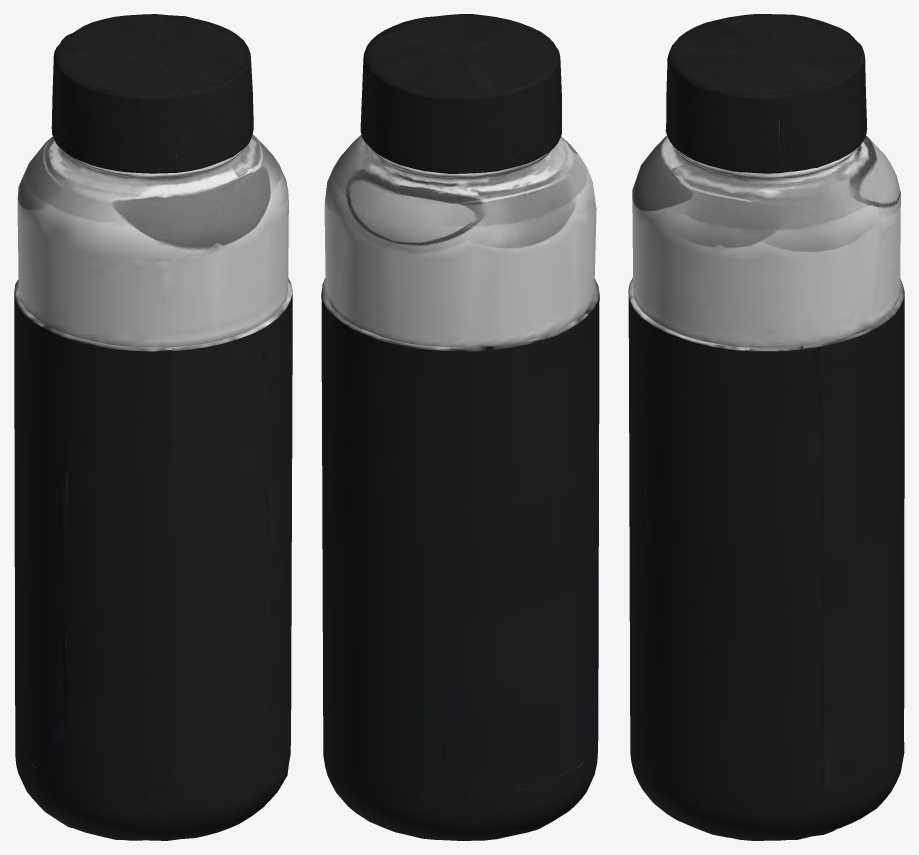
File: DEMO-P023.glb
The picture shows the model from 3 angles, left to right: view 1: azimuth 30°, elevation 25°; view 2: azimuth 150°, elevation 25°; view 3: azimuth 270°, elevation 25°; orthographic projection.
Size of the model in its own units: 0.3395 by 1 by 0.3371.
Materials: 1 (1 with a texture image).
